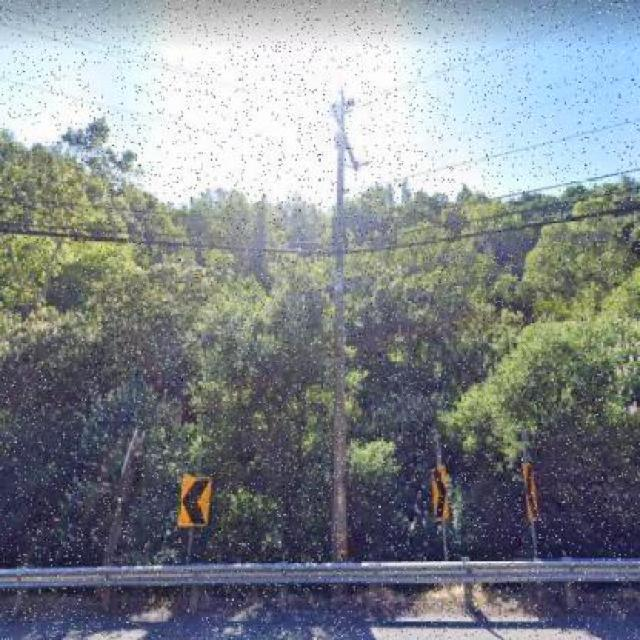crossarm: (340, 129, 362, 168)
pole: (332, 108, 350, 561)
wire: (1, 205, 640, 255), (380, 116, 638, 187), (346, 184, 639, 241), (491, 167, 640, 201)
